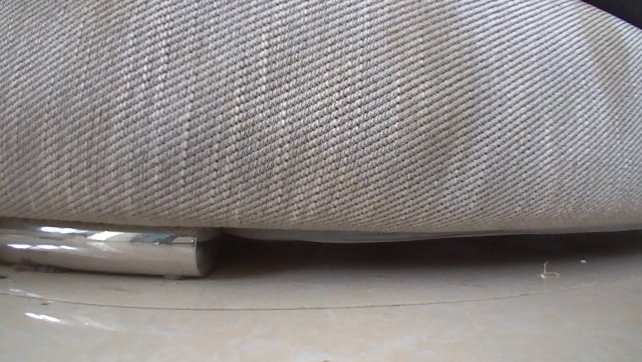sofe1: (0, 0, 641, 284)
